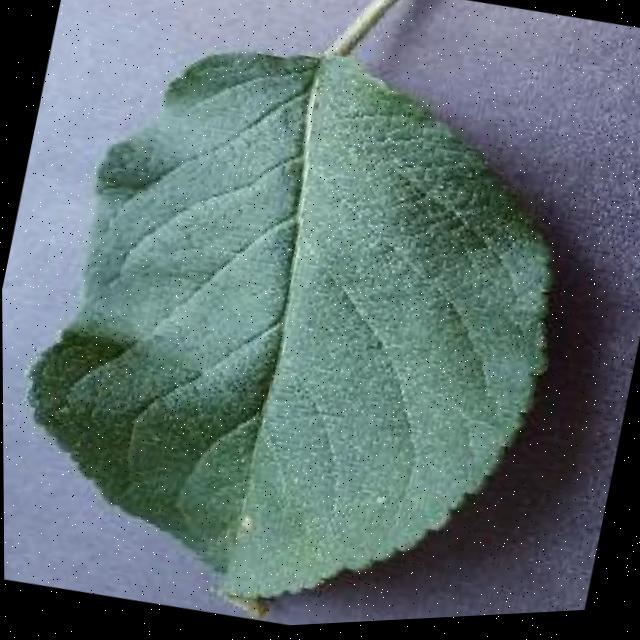healthy: (0, 0, 616, 640)
